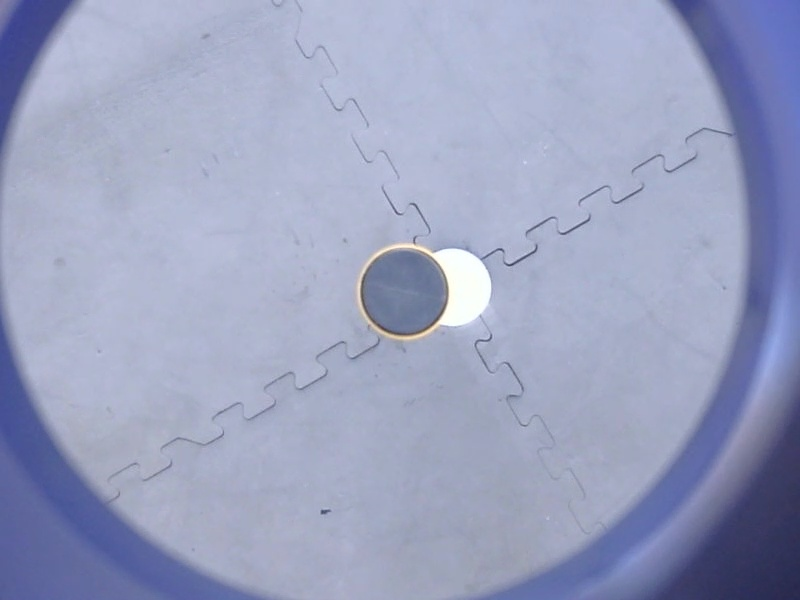tip: (354, 239, 455, 348)
